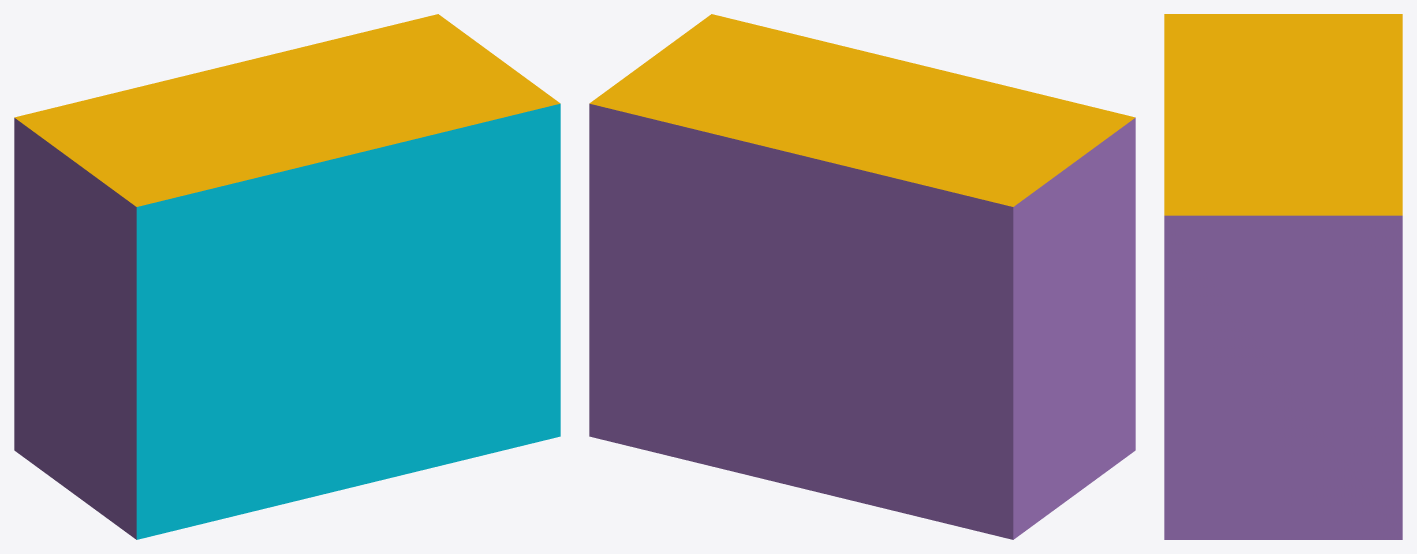
3 views of the same model, side by side, from view 1: azimuth 30°, elevation 25°; view 2: azimuth 150°, elevation 25°; view 3: azimuth 270°, elevation 25° (orthographic). The views are drawn at different scales.
Visible parts, largest first — view 1: signal-crate-solid; view 2: signal-crate-solid; view 3: signal-crate-solid.
Part boxes in pixels (bbox=[...]): signal-crate-solid: bbox=[14, 14, 560, 539]; signal-crate-solid: bbox=[589, 14, 1135, 539]; signal-crate-solid: bbox=[1164, 14, 1402, 539].
Bounding box in the file's own units: 2 × 1.5 × 1.
